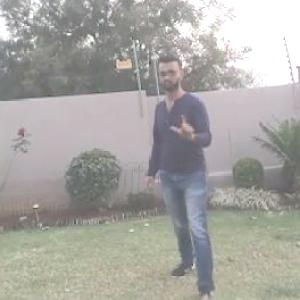land_hand: (170, 102, 202, 142)
